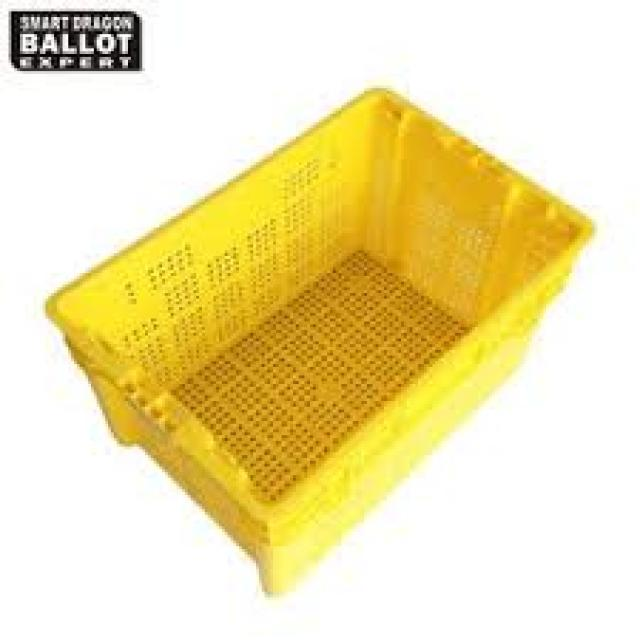basket: (11, 9, 142, 77)
